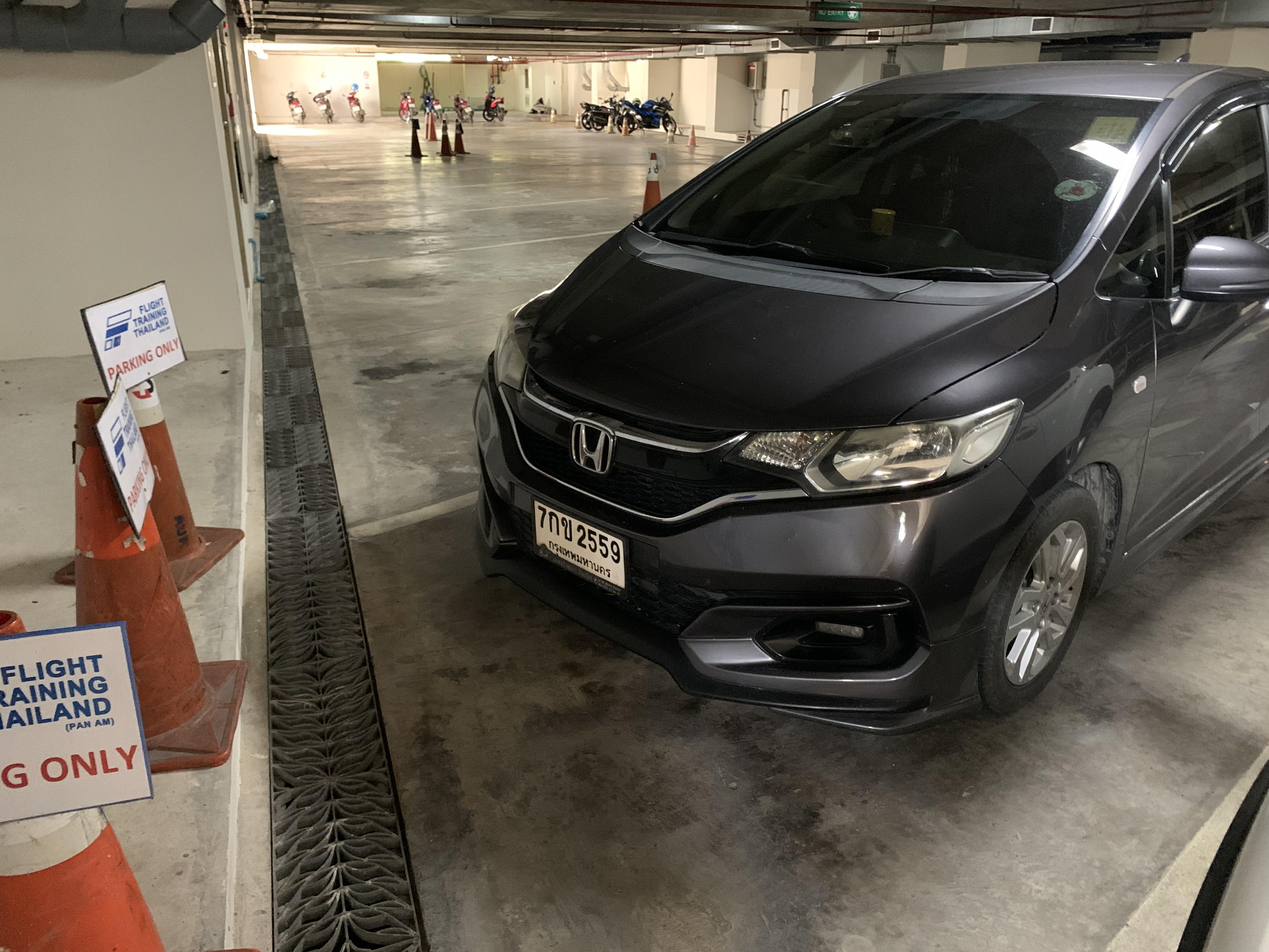license-plate: (529, 490, 631, 593)
